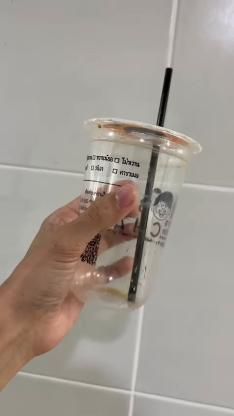Plastic Cup: (67, 117, 203, 309)
